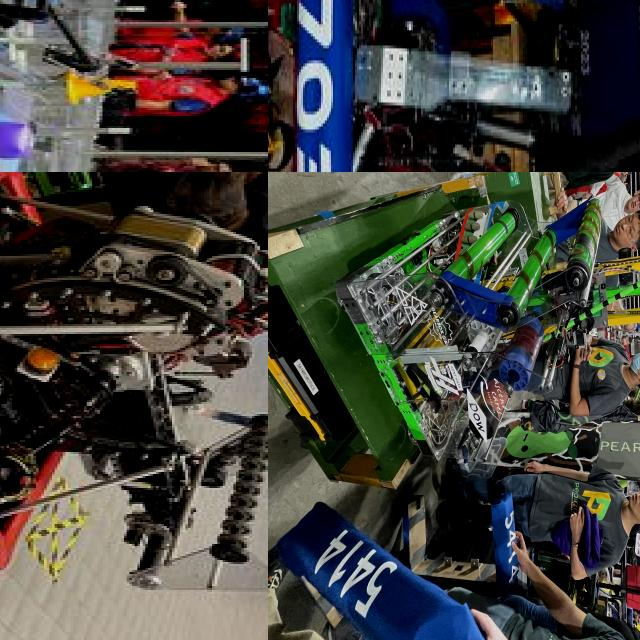FRC-Robots: (0, 172, 268, 578), (354, 172, 640, 486), (280, 0, 640, 172), (0, 0, 139, 107)
